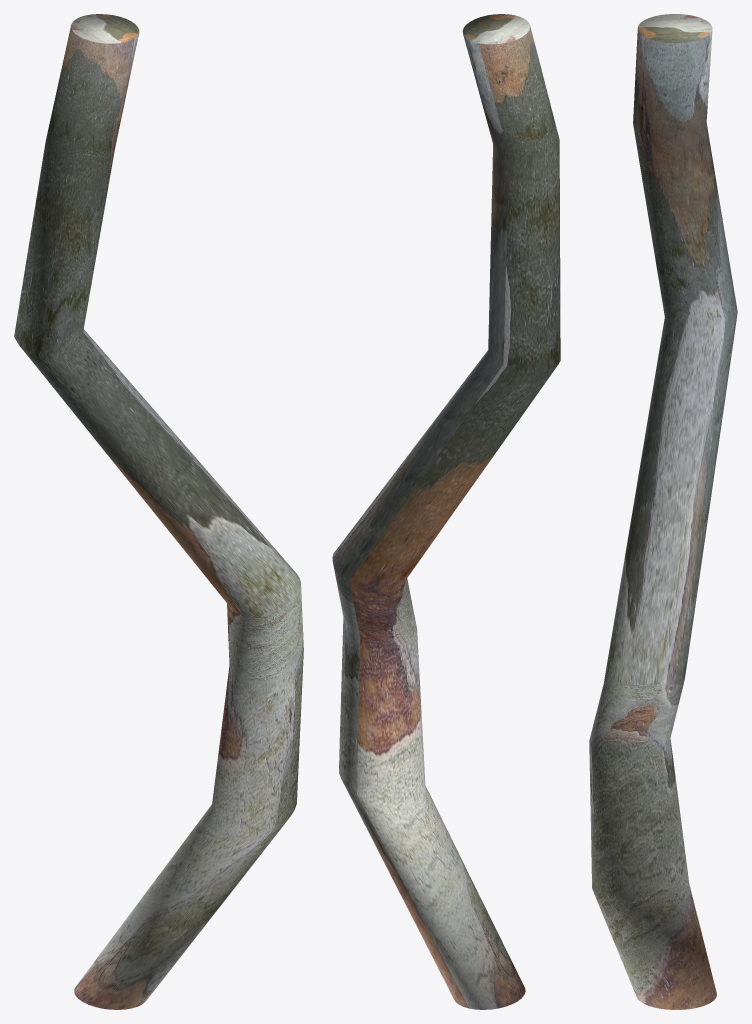
File: branch_c2.glb
3 views of the same model, side by side, from view 1: azimuth 30°, elevation 25°; view 2: azimuth 150°, elevation 25°; view 3: azimuth 270°, elevation 25° (orthographic).
Parts seen in each view (by area): view 1: Cylinder.018; view 2: Cylinder.018; view 3: Cylinder.018.
Part boxes in pixels (bbox=[...]): Cylinder.018: bbox=[14, 14, 303, 1009]; Cylinder.018: bbox=[332, 14, 560, 1009]; Cylinder.018: bbox=[589, 14, 737, 1009].
Size of the model in its own units: 0.2623 by 1 by 0.1396.
Materials: 1 (1 with a texture image).
